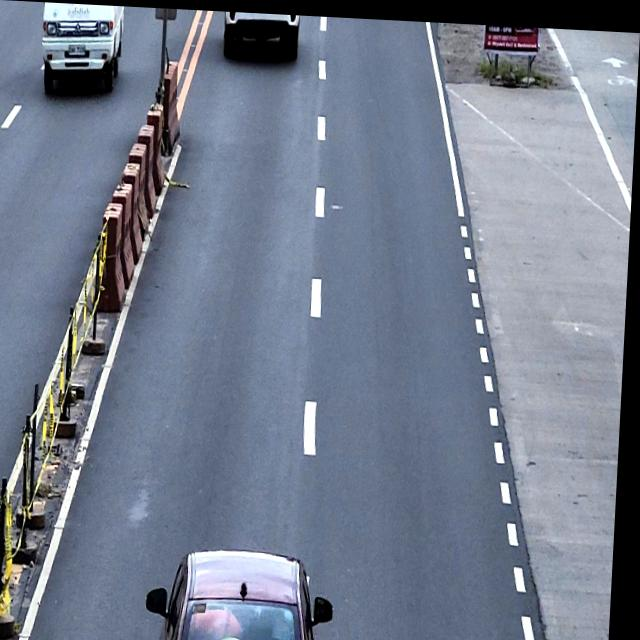Car: (150, 543, 342, 640), (40, 2, 126, 95), (222, 9, 300, 58)
License-Plate: (67, 41, 87, 56)
